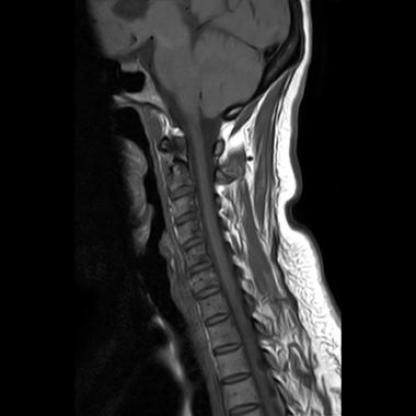Disc Bulgerotation: (186, 254, 213, 277)
